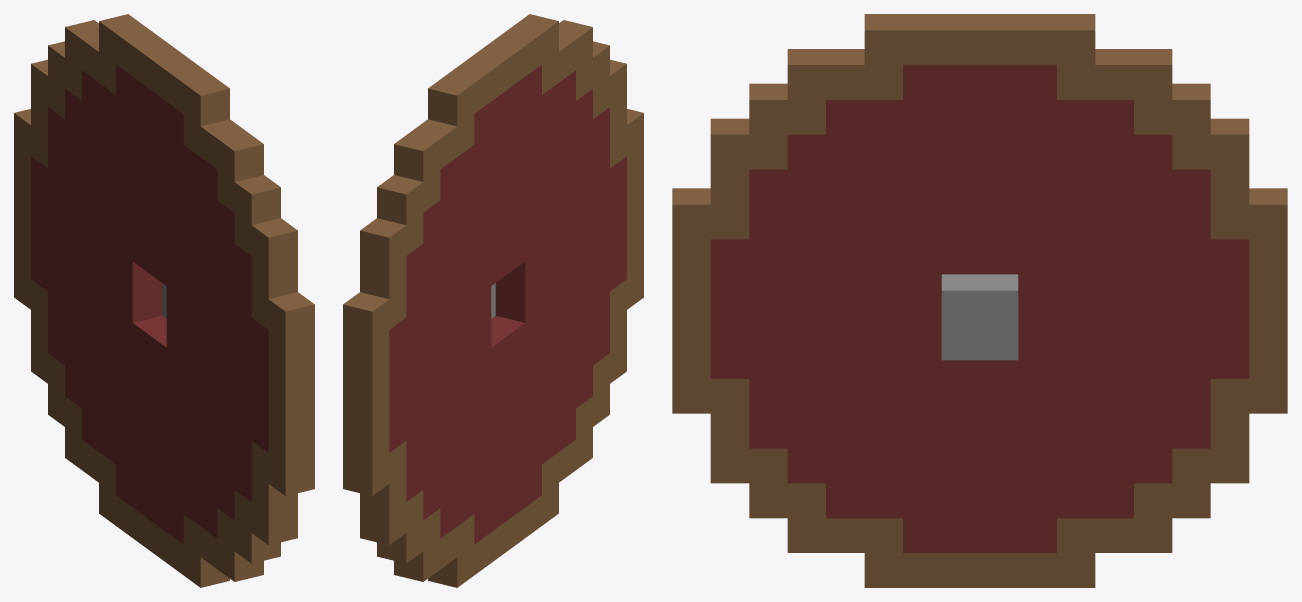
File: char-20-shield_med_1_du.obj
3 renders of one model, left to right at view 1: azimuth 30°, elevation 25°; view 2: azimuth 150°, elevation 25°; view 3: azimuth 270°, elevation 25°, orthographic. The views are drawn at different scales.
Visible parts, largest first — view 1: shield_med_1_du; view 2: shield_med_1_du; view 3: shield_med_1_du.
Boxes of the visible parts, bbox=[...] form: shield_med_1_du: bbox=[14, 14, 314, 587]; shield_med_1_du: bbox=[343, 14, 643, 587]; shield_med_1_du: bbox=[672, 14, 1287, 587].
Size of the model in its own units: 0.2 by 1.6 by 1.6.
Materials: 1 (1 with a texture image).
